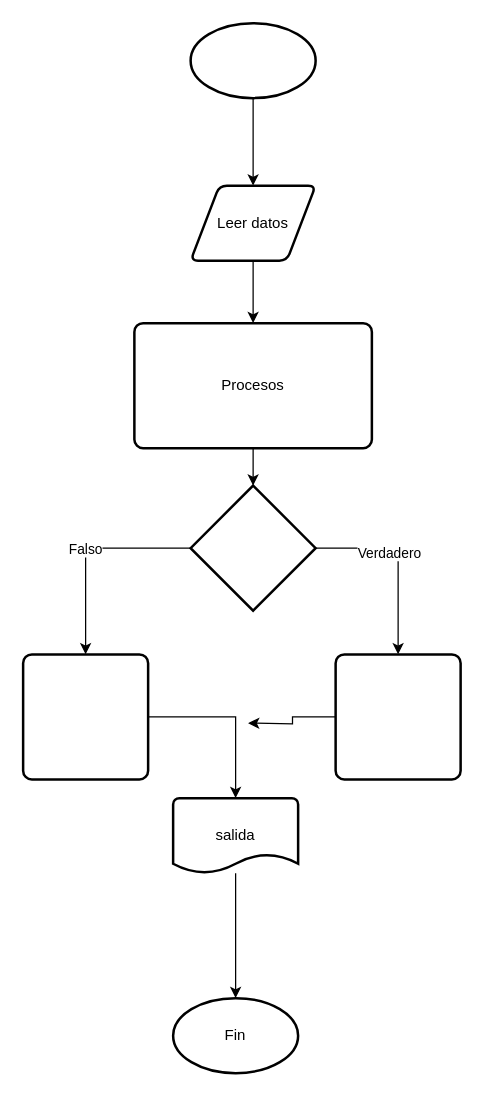
This 483x1095 diagram has some shape labels left out. Each missing label, with the centre of its shape:
Inicio: the point at 252,60
Toma de decisiones: the point at 252,547
